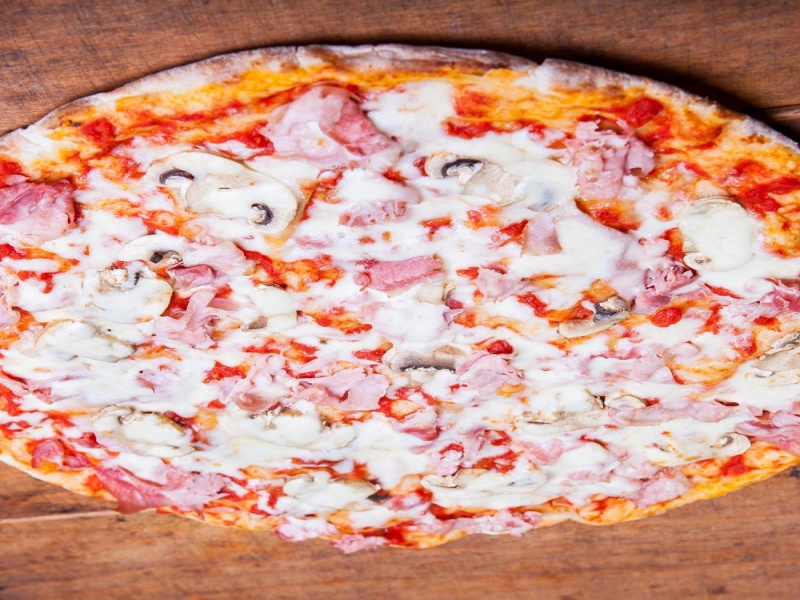champignon: (137, 146, 310, 244)
